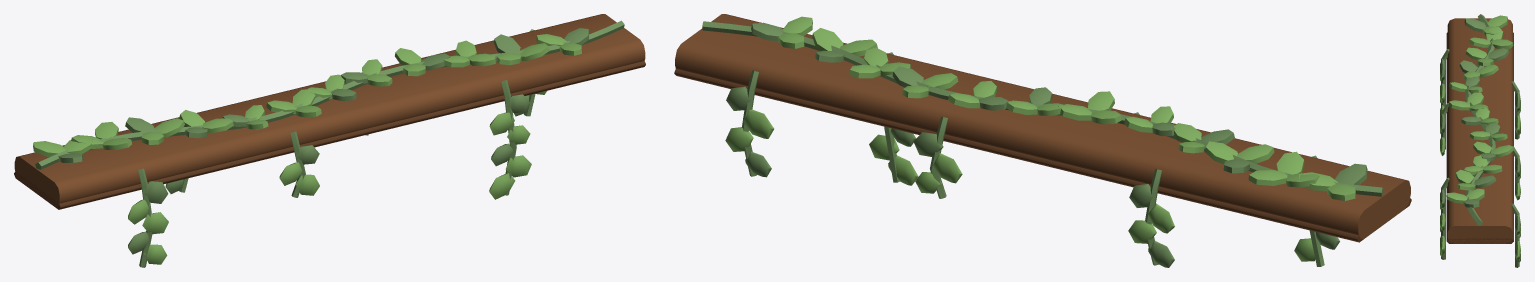
The model's file is ZoneKitTrimIvy.fbx.
The picture shows the model from 3 angles, left to right: view 1: azimuth 30°, elevation 25°; view 2: azimuth 150°, elevation 25°; view 3: azimuth 270°, elevation 25°; orthographic projection. The views are drawn at different scales.
Parts seen in each view (by area): view 1: ZoneKitTrimIvy; view 2: ZoneKitTrimIvy; view 3: ZoneKitTrimIvy.
Part boxes in pixels (x1=…): ZoneKitTrimIvy: x1=14, y1=14, x2=645, y2=267; ZoneKitTrimIvy: x1=674, y1=14, x2=1411, y2=267; ZoneKitTrimIvy: x1=1440, y1=14, x2=1520, y2=267.
Bounding box in the file's own units: 3 × 0.6309 × 0.4929.
